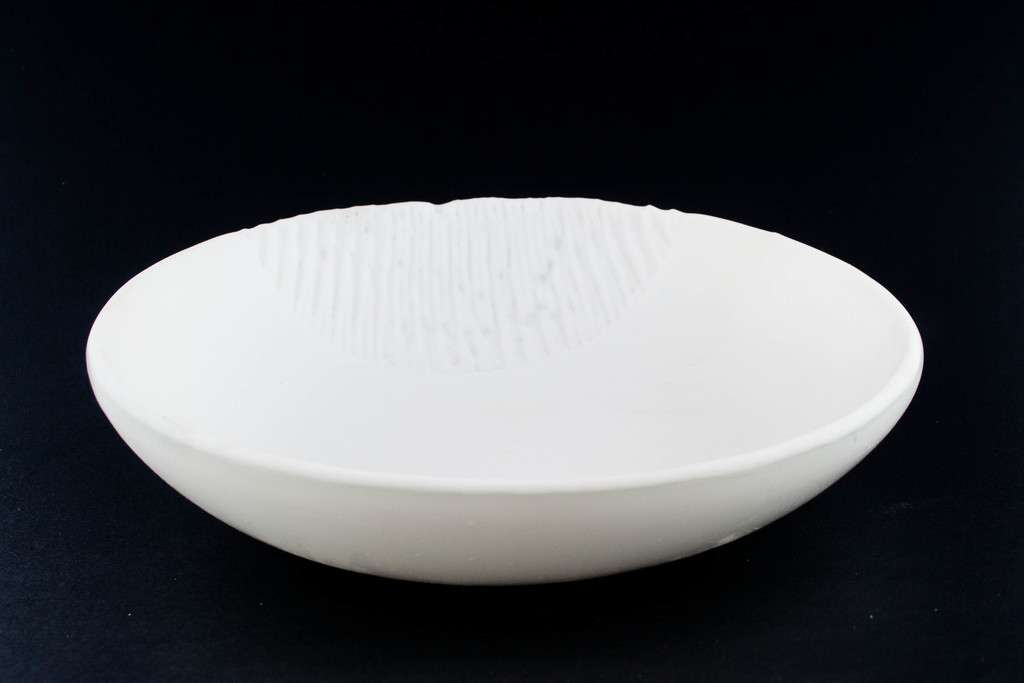plate: (85, 202, 925, 565)
